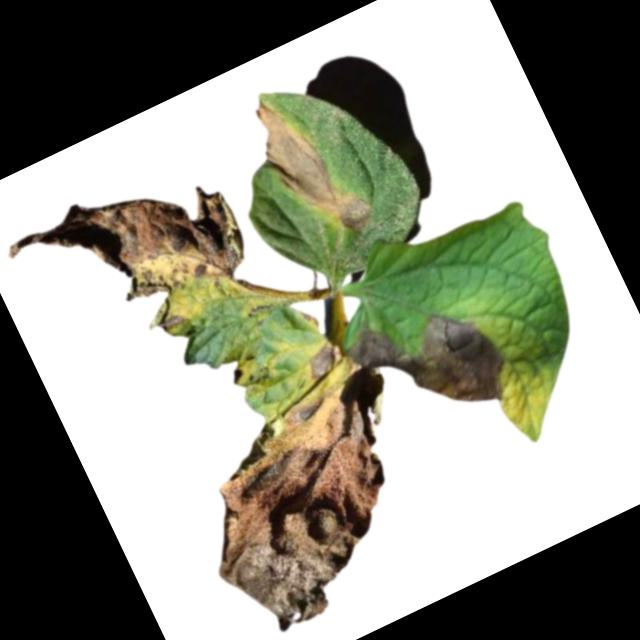Early_blight: (168, 383, 431, 640), (1, 141, 272, 384), (343, 279, 523, 448), (241, 74, 383, 255), (302, 337, 346, 379)
